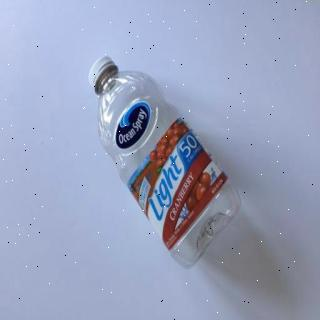Plastic-bottle: (88, 54, 245, 275)
